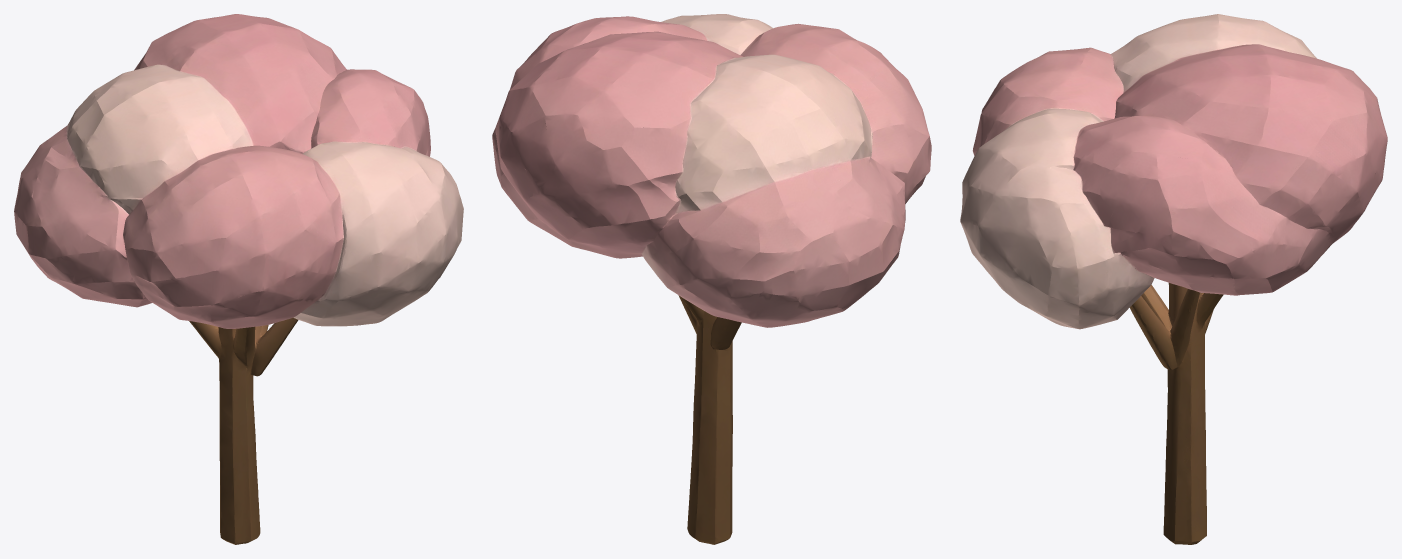
3 renders of one model, left to right at view 1: azimuth 30°, elevation 25°; view 2: azimuth 150°, elevation 25°; view 3: azimuth 270°, elevation 25°, orthographic. The views are drawn at different scales.
Visible parts, largest first — view 1: model; view 2: model; view 3: model.
Boxes of the visible parts, bbox=[...] form: model: bbox=[14, 14, 463, 544]; model: bbox=[492, 14, 931, 544]; model: bbox=[960, 14, 1387, 544].
Bounding box in the file's own units: 1.55 × 1.9 × 1.48.
Materials: 1 (1 with a texture image).
